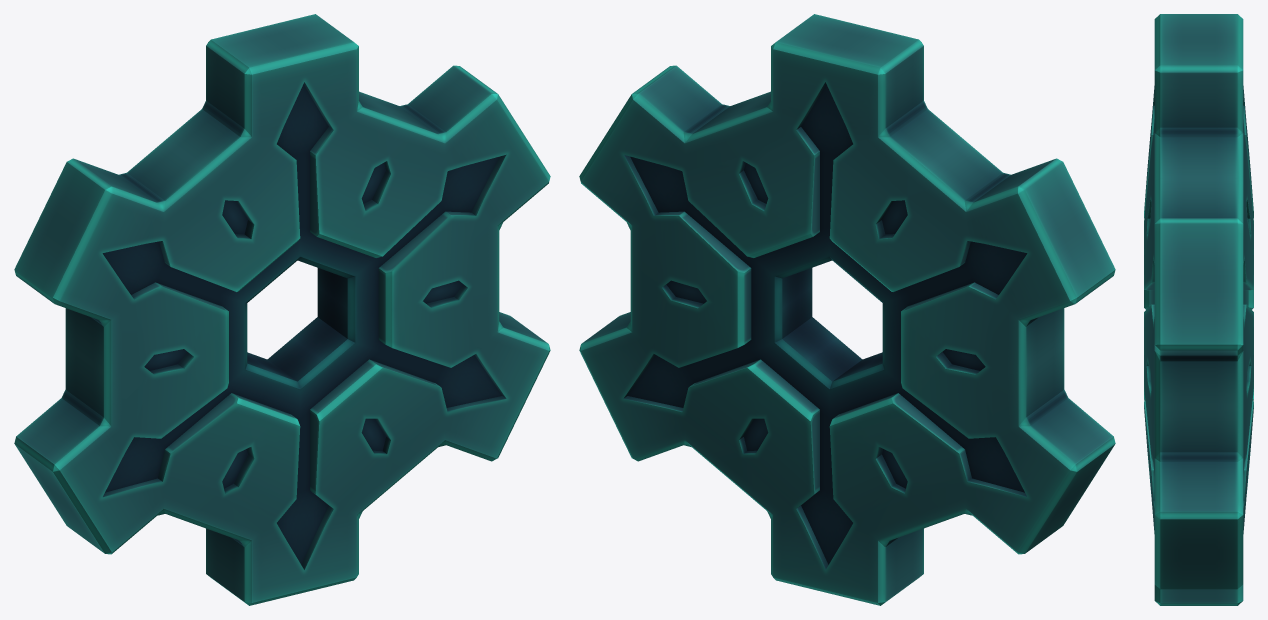
File: Brawl.fbx
3 renders of one model, left to right at view 1: azimuth 30°, elevation 25°; view 2: azimuth 150°, elevation 25°; view 3: azimuth 270°, elevation 25°, orthographic.
Parts seen in each view (by area): view 1: Gear; view 2: Gear; view 3: Gear.
Part boxes in pixels (bbox=[...]): Gear: bbox=[14, 14, 550, 605]; Gear: bbox=[579, 14, 1115, 605]; Gear: bbox=[1144, 14, 1253, 605].
Size of the model in its own units: 105 by 108 by 19.86.
Materials: 1 (1 with a texture image).
